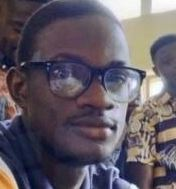without_facemask: (56, 100, 131, 162), (161, 68, 176, 80)
